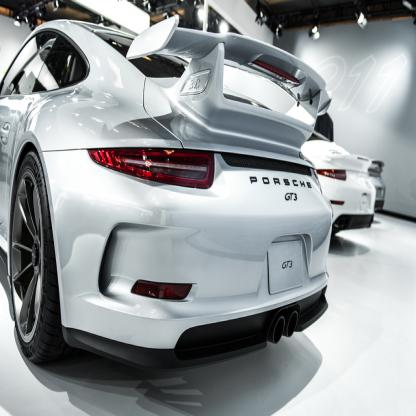Car: (0, 19, 334, 373), (301, 131, 377, 237), (369, 160, 386, 212)
